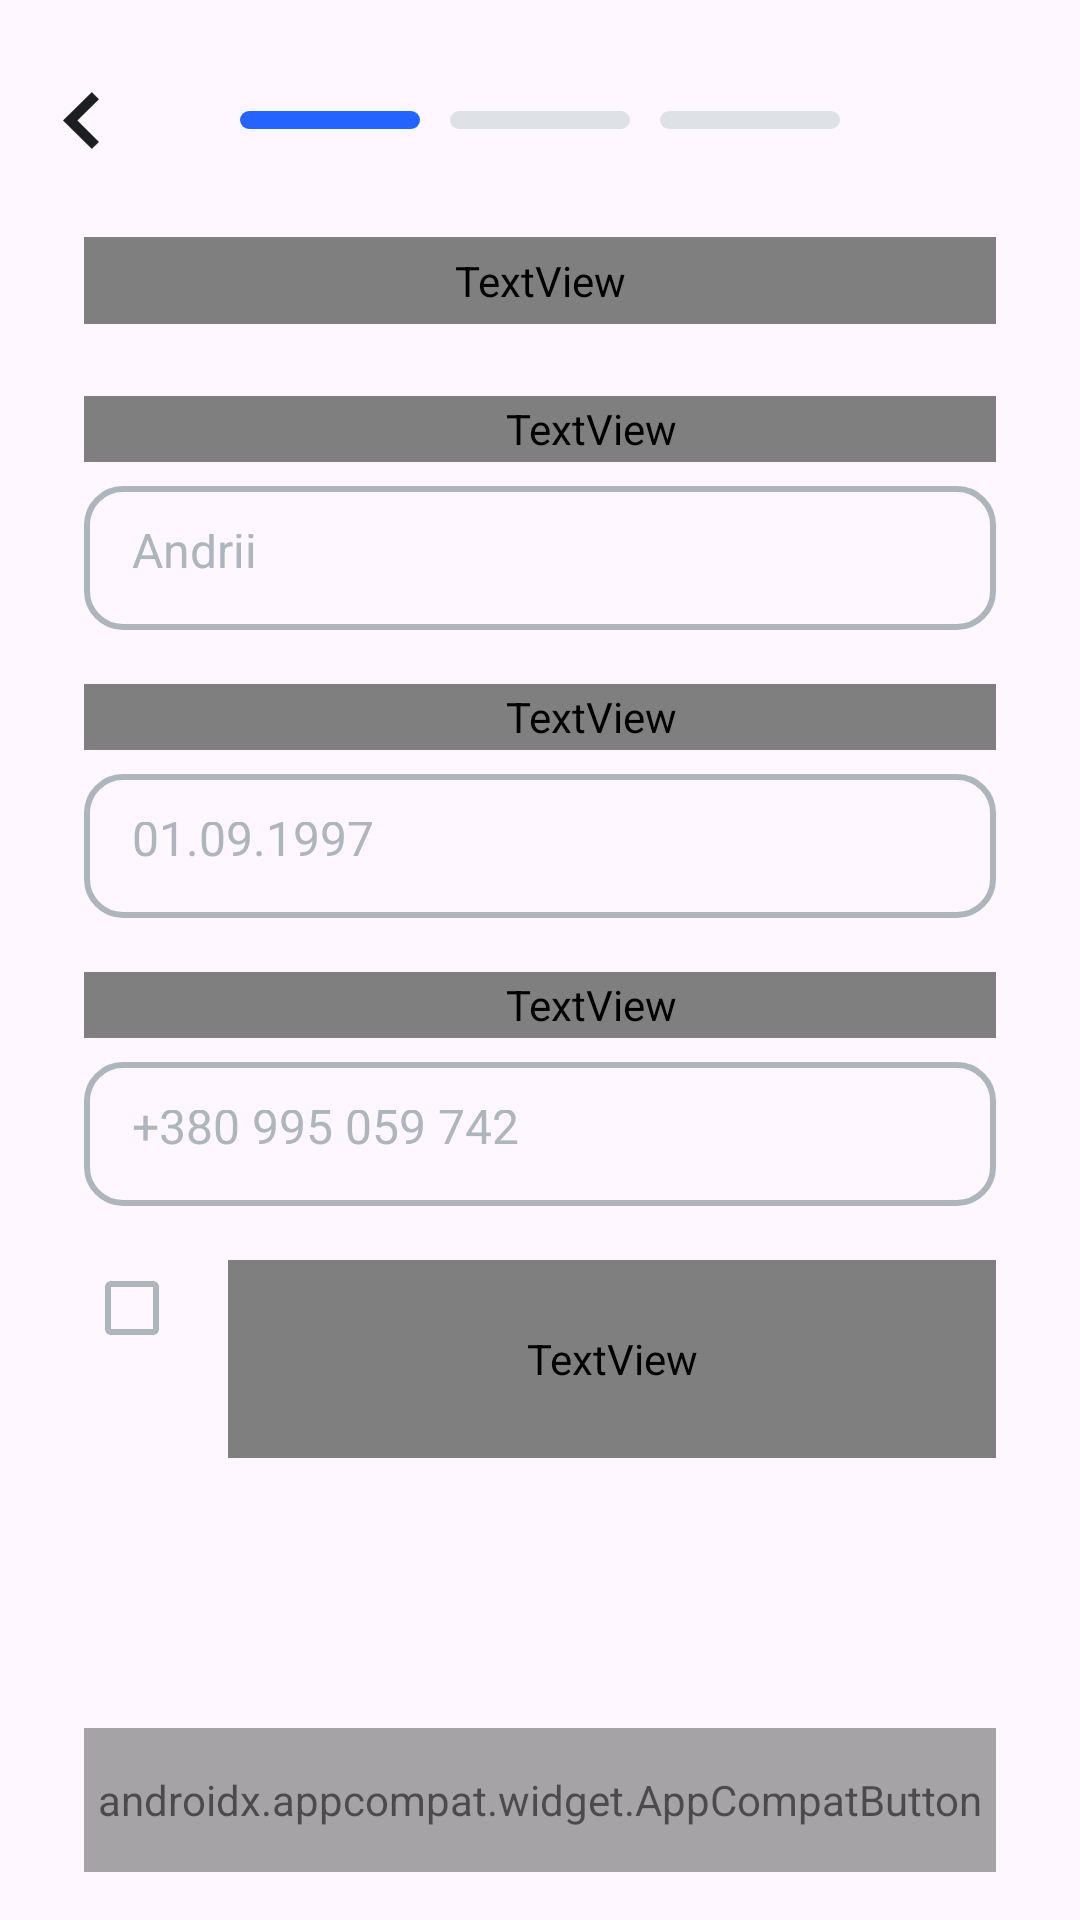

Where to tap for icons on this 1080×1920 app screen, as (x,y):
arrow back: (81,120)
